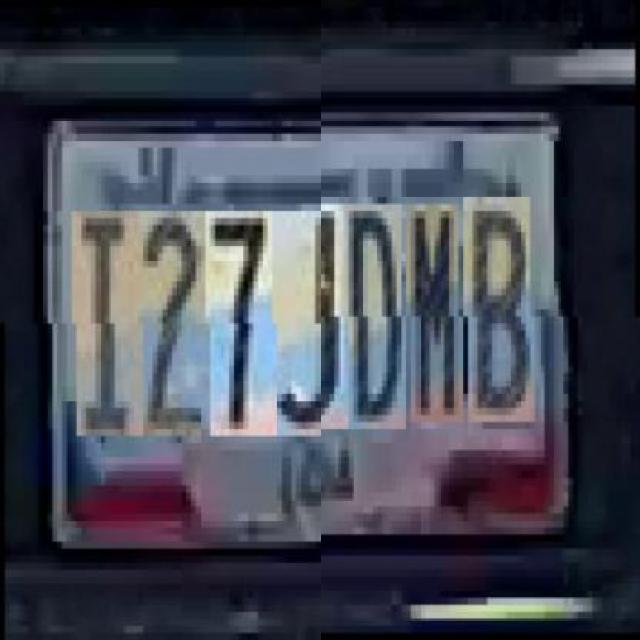2: (142, 212, 210, 436)
7: (210, 212, 278, 436)
b: (468, 204, 535, 428)
d: (348, 212, 407, 436)
i: (76, 212, 144, 436)
j: (277, 212, 349, 436)
m: (410, 211, 464, 429)
